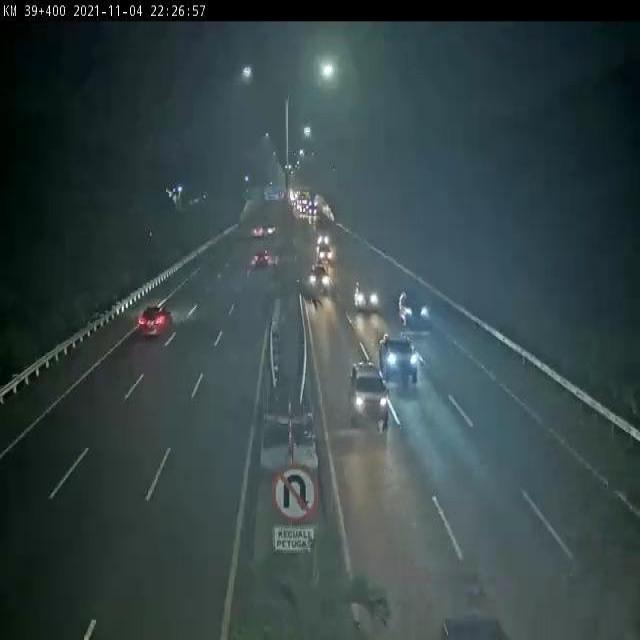car: (350, 360, 389, 423), (378, 331, 419, 384), (397, 289, 432, 327), (138, 300, 173, 337), (354, 277, 381, 312), (306, 262, 330, 290)
